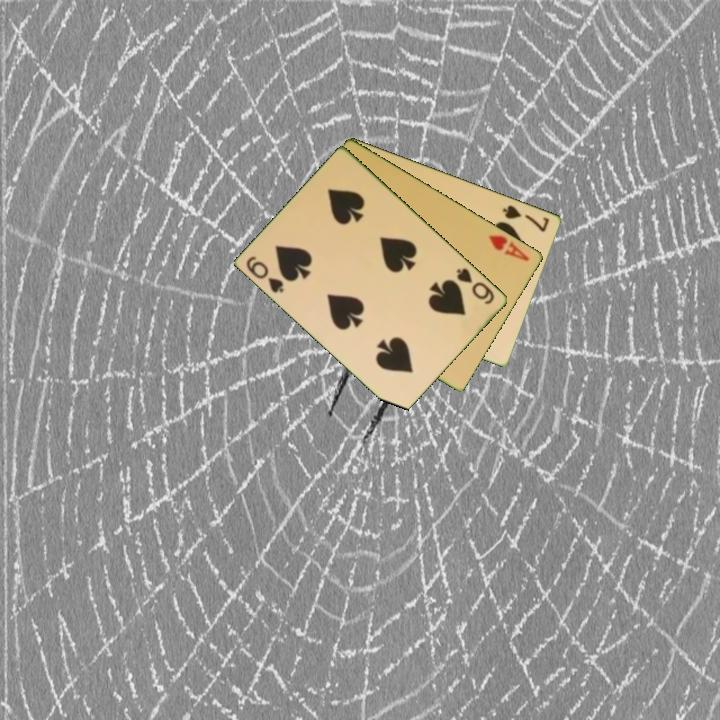6s: (453, 264, 498, 307), (243, 253, 288, 296)
7s: (500, 201, 552, 235)
Ah: (486, 231, 532, 264)
